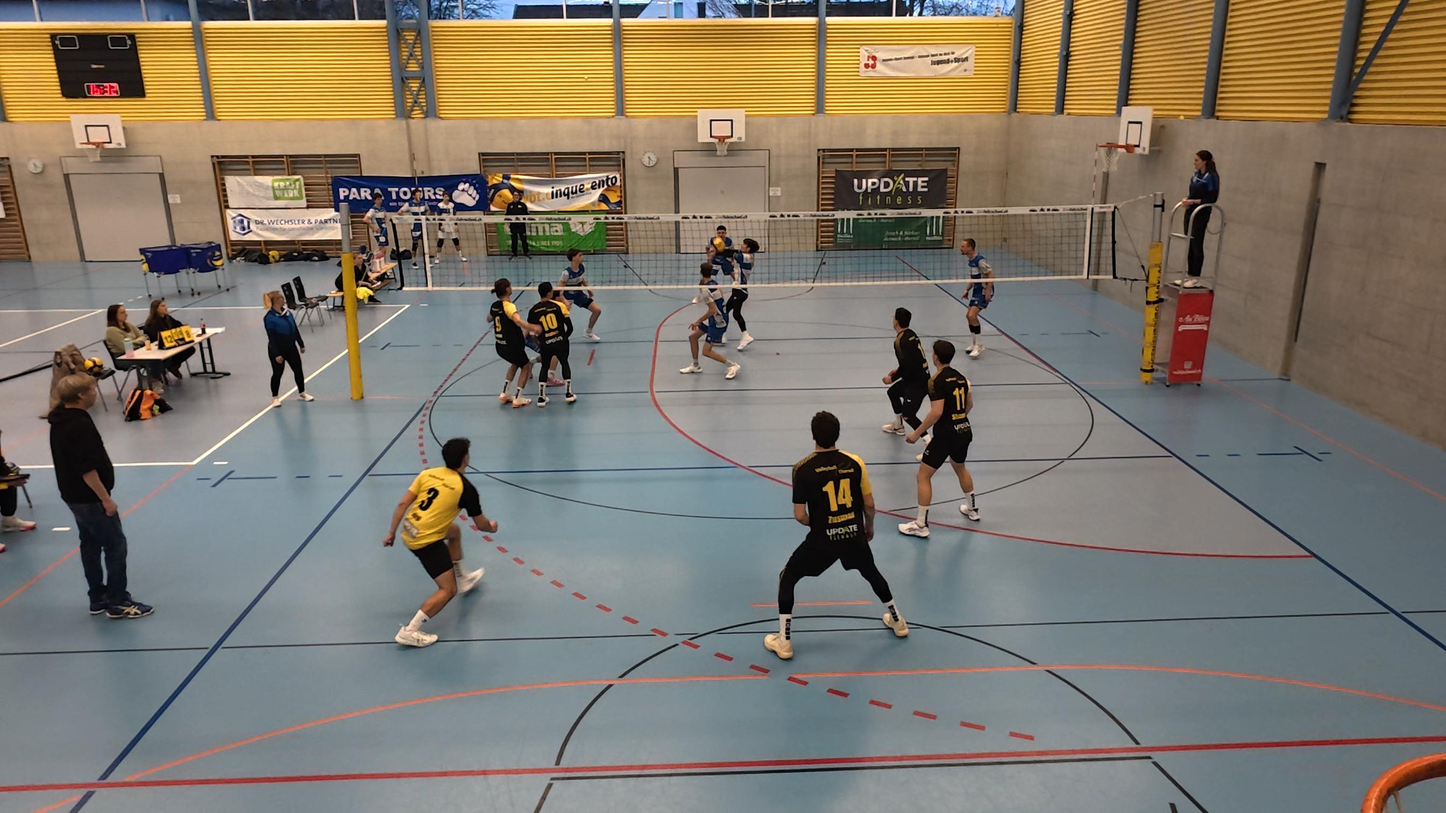difesa: (705, 232, 757, 349)
